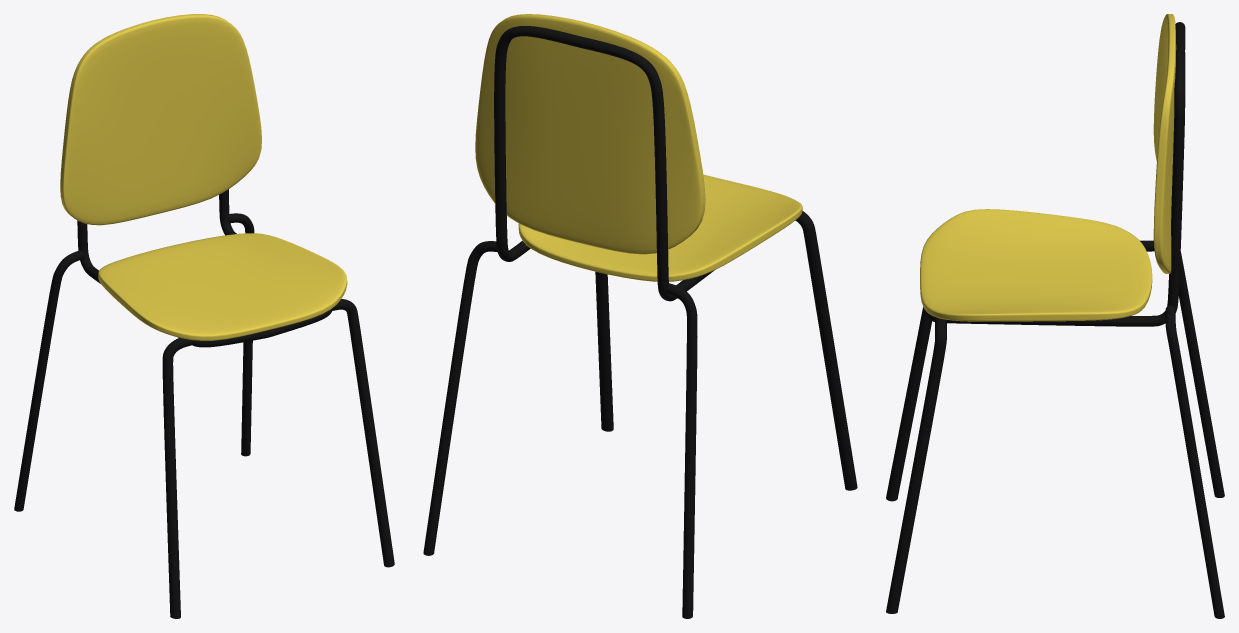
Rendered from kursi 4_asset.fbx.
3 renders of one model, left to right at view 1: azimuth 30°, elevation 25°; view 2: azimuth 150°, elevation 25°; view 3: azimuth 270°, elevation 25°, orthographic. The views are drawn at different scales.
Parts seen in each view (by area): view 1: Cube.001, Cube, Cylinder; view 2: Cube.001, Cylinder, Cube; view 3: Cube, Cylinder, Cube.001.
Boxes of the visible parts, x1,y1,x2,y2 form: Cube.001: (60,14,261,225); Cube: (98,233,347,340); Cylinder: (14,189,394,618); Cube.001: (475,14,705,254); Cylinder: (423,26,857,618); Cube: (518,174,802,281); Cube: (920,209,1152,321); Cylinder: (886,22,1224,618); Cube.001: (1153,14,1176,273).
Size of the model in its own units: 371 by 720 by 424.
